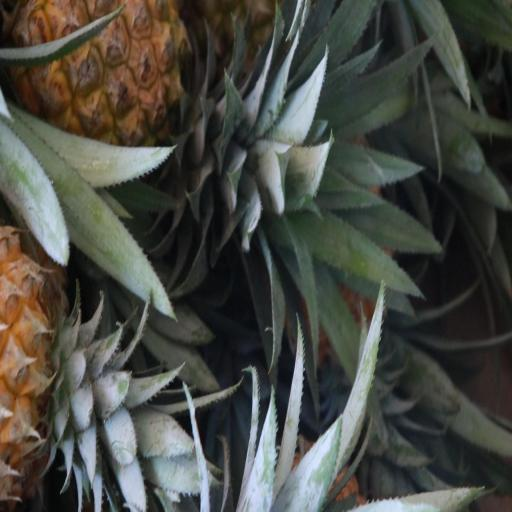Pineapple - v8 v1: (13, 0, 216, 158)
